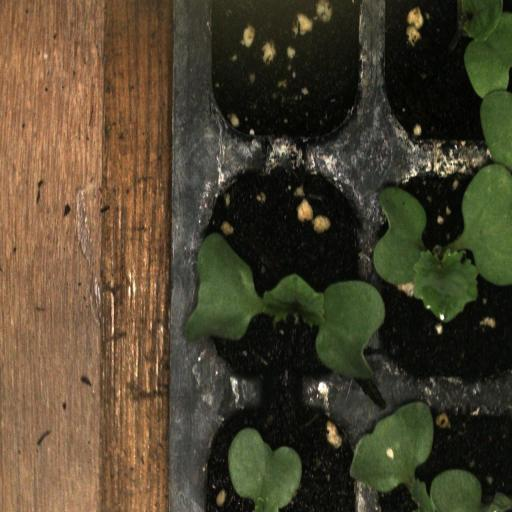Folha: (228, 427, 302, 512)
Germinacao: (195, 162, 368, 388), (368, 164, 512, 386), (370, 393, 512, 512)
